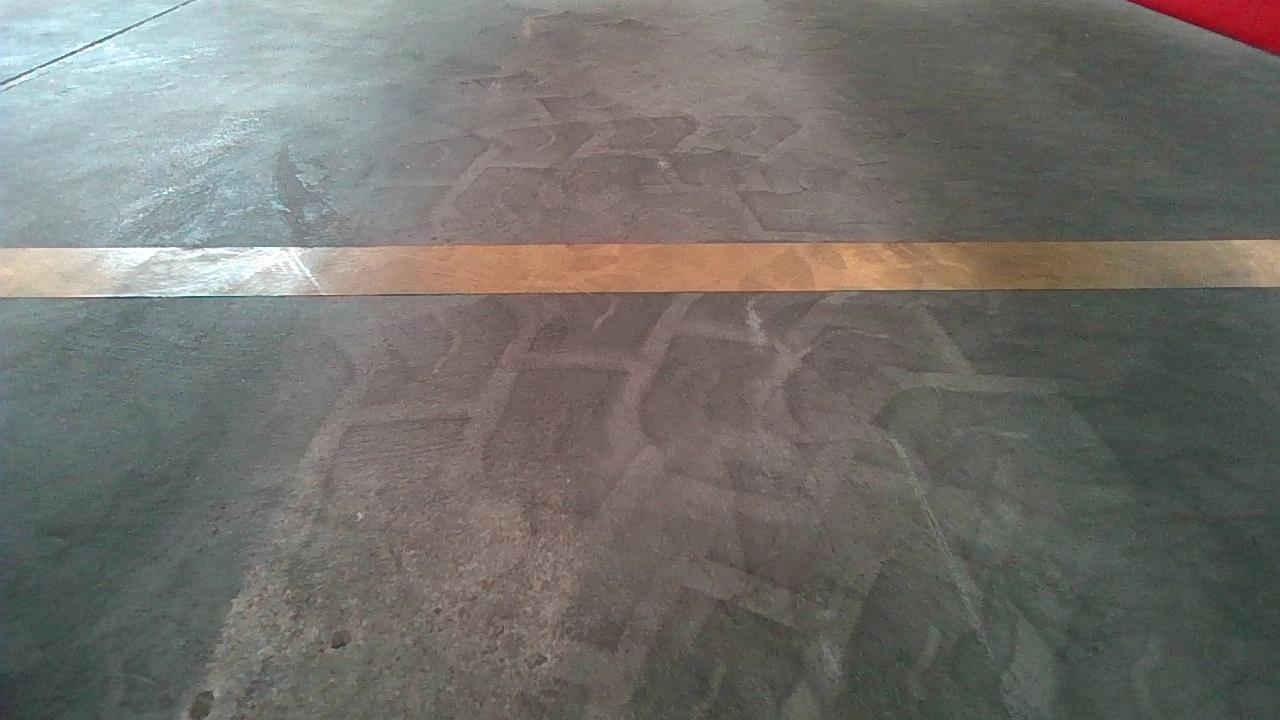yellow_line: (17, 231, 1280, 298)
